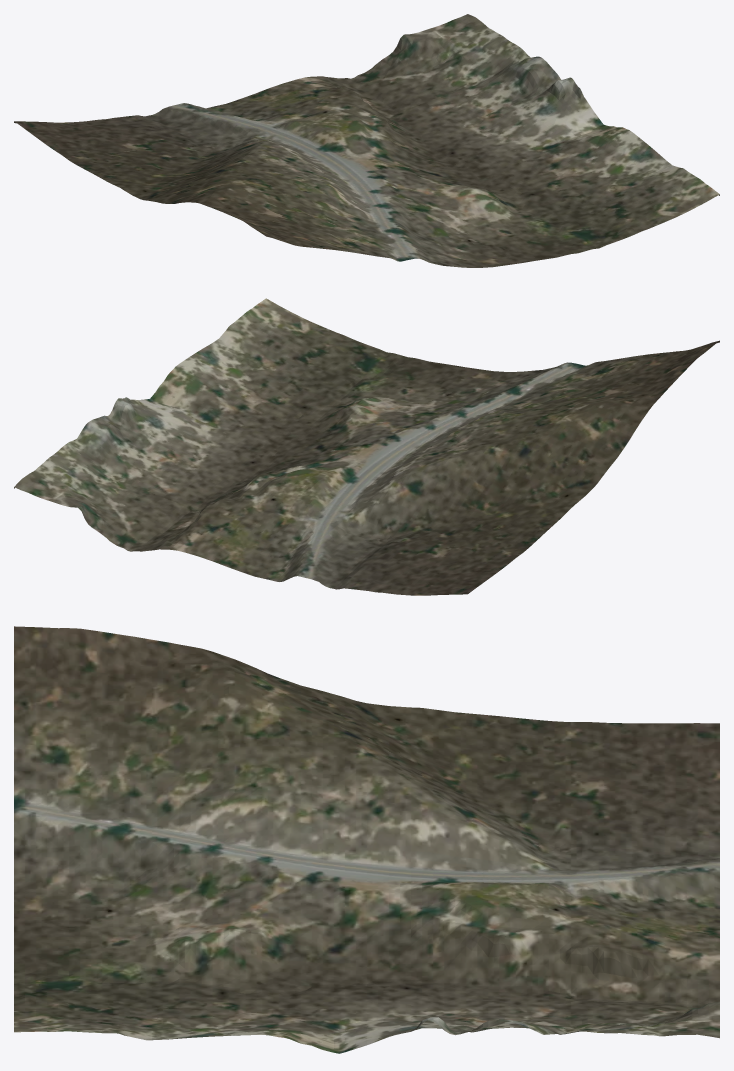
3 renders of one model, top to bottom at view 1: azimuth 30°, elevation 25°; view 2: azimuth 150°, elevation 25°; view 3: azimuth 270°, elevation 25°, orthographic. The views are drawn at different scales.
Bounding box in the file's own units: 250 × 58.32 × 241.
Materials: 1 (1 with a texture image).
